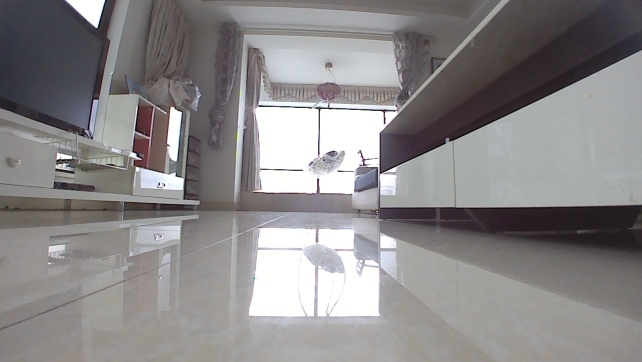TV_stand: (0, 106, 199, 214)
sofe1: (348, 163, 378, 214)
tea_table: (373, 0, 641, 231)
